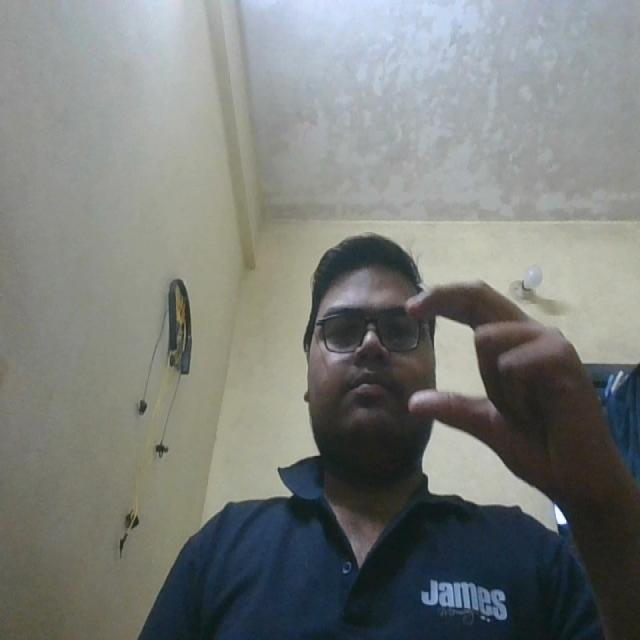No: (393, 270, 610, 458)
